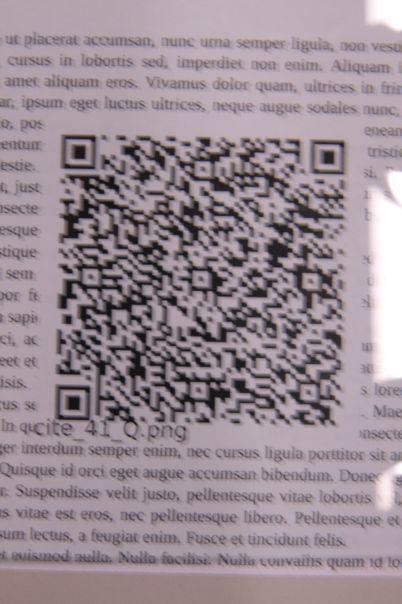Finder pattern: (49, 378, 97, 424), (58, 129, 103, 174), (307, 134, 351, 177)
